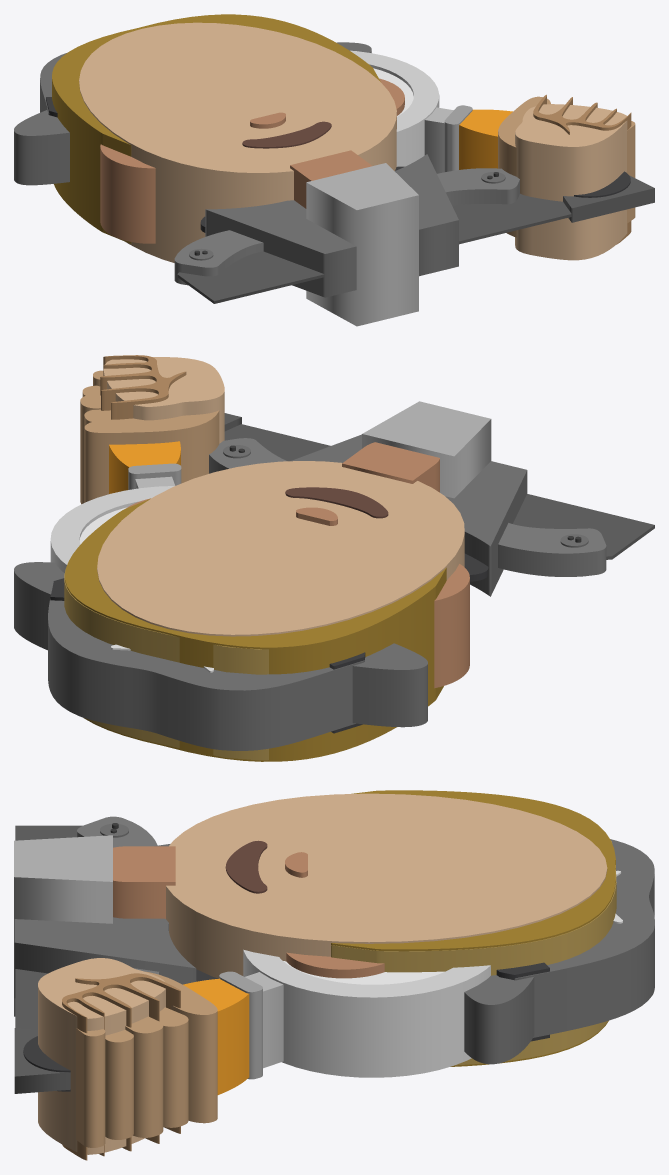
File: emoji_u1f575_1f3fc_200d_2642.glb
3 renders of one model, top to bottom at view 1: azimuth 30°, elevation 25°; view 2: azimuth 150°, elevation 25°; view 3: azimuth 270°, elevation 25°, orthographic. The views are drawn at different scales.
Parts seen in each view (by area): view 1: emoji_u1f575_1f3fc_200d_2642; view 2: emoji_u1f575_1f3fc_200d_2642; view 3: emoji_u1f575_1f3fc_200d_2642.
Boxes of the visible parts, x1=… form: emoji_u1f575_1f3fc_200d_2642: x1=14, y1=14, x2=654, y2=326; emoji_u1f575_1f3fc_200d_2642: x1=14, y1=355, x2=654, y2=761; emoji_u1f575_1f3fc_200d_2642: x1=14, y1=790, x2=654, y2=1160.
Bounding box in the file's own units: 0.0326 × 0.0082 × 0.0333.
